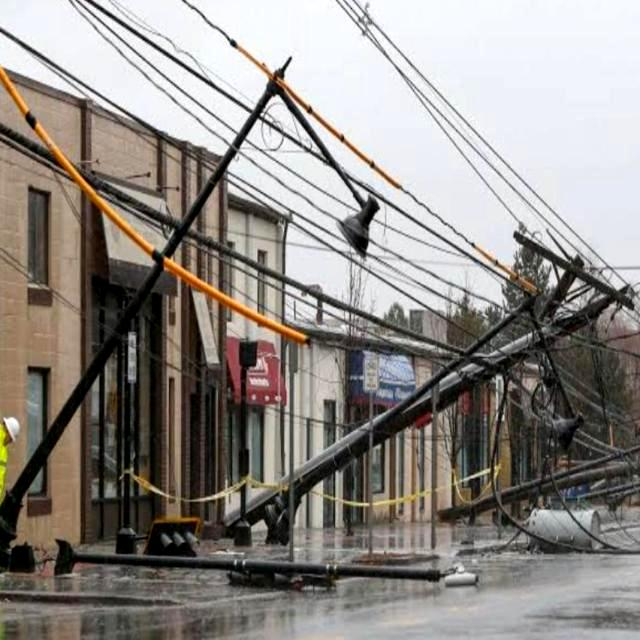Broken Pole: (0, 52, 381, 567), (229, 292, 584, 544), (389, 223, 636, 441), (51, 537, 443, 593)
